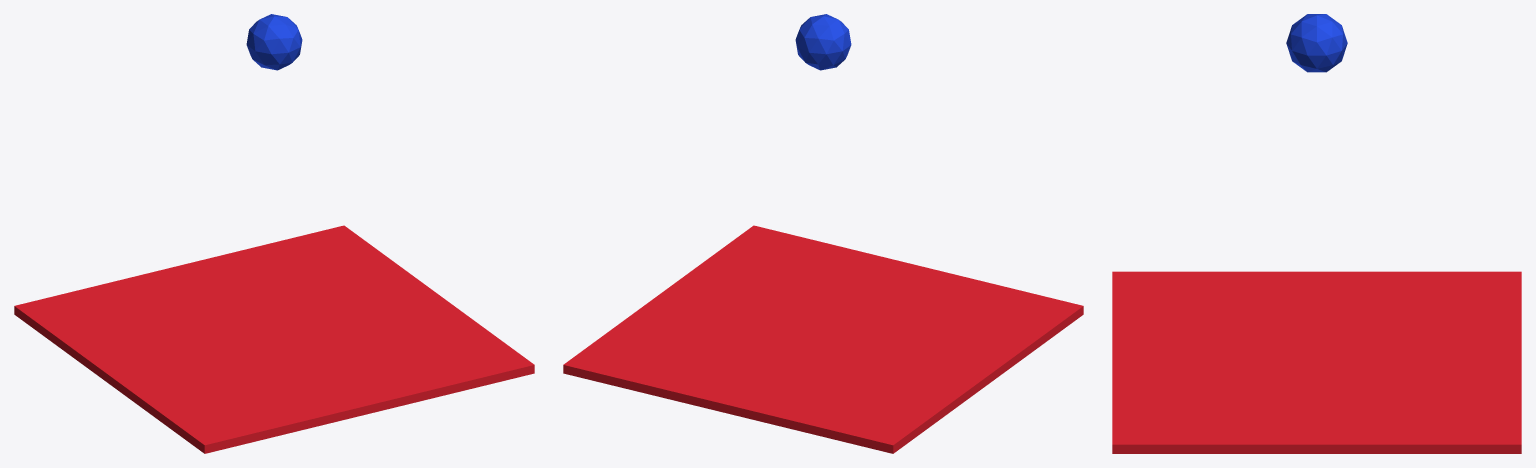
The model's file is bobject.glb.
3 views of the same model, side by side, from view 1: azimuth 30°, elevation 25°; view 2: azimuth 150°, elevation 25°; view 3: azimuth 270°, elevation 25° (orthographic). The views are drawn at different scales.
Parts seen in each view (by area): view 1: Cube, Icosphere; view 2: Cube, Icosphere; view 3: Cube, Icosphere.
Boxes of the visible parts, x1,y1,x2,y2 form: Cube: [14, 225, 534, 453]; Icosphere: [246, 14, 302, 70]; Cube: [563, 225, 1083, 453]; Icosphere: [795, 14, 851, 70]; Cube: [1112, 271, 1521, 453]; Icosphere: [1286, 14, 1347, 72].
Size of the model in its own units: 8 by 7.59 by 8.
